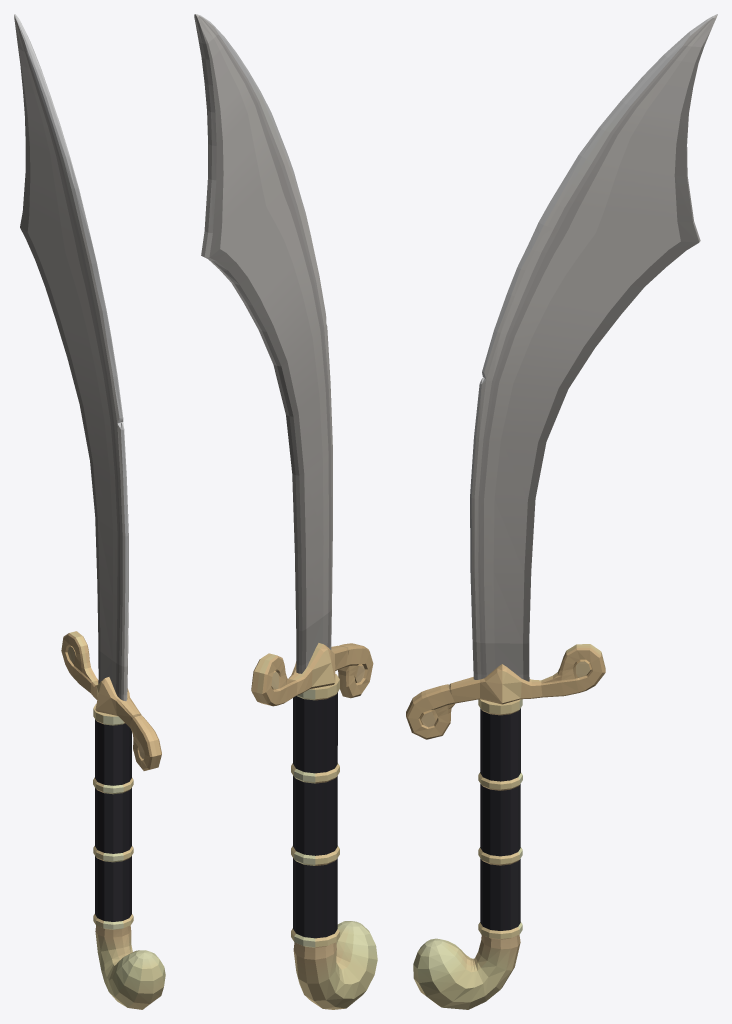
The model's file is bladedHeavyPersianScimitar.glb.
3 renders of one model, left to right at view 1: azimuth 30°, elevation 25°; view 2: azimuth 150°, elevation 25°; view 3: azimuth 270°, elevation 25°, orthographic. The views are drawn at different scales.
Visible parts, largest first — view 1: bladedHeavyPersianScimitar; view 2: bladedHeavyPersianScimitar; view 3: bladedHeavyPersianScimitar.
Boxes of the visible parts, box(x1,y1,x2,y2) form: bladedHeavyPersianScimitar: box(14, 14, 165, 1009); bladedHeavyPersianScimitar: box(194, 14, 377, 1009); bladedHeavyPersianScimitar: box(406, 14, 717, 1009).
Size of the model in its own units: 0.0469 by 0.9232 by 0.2624.
